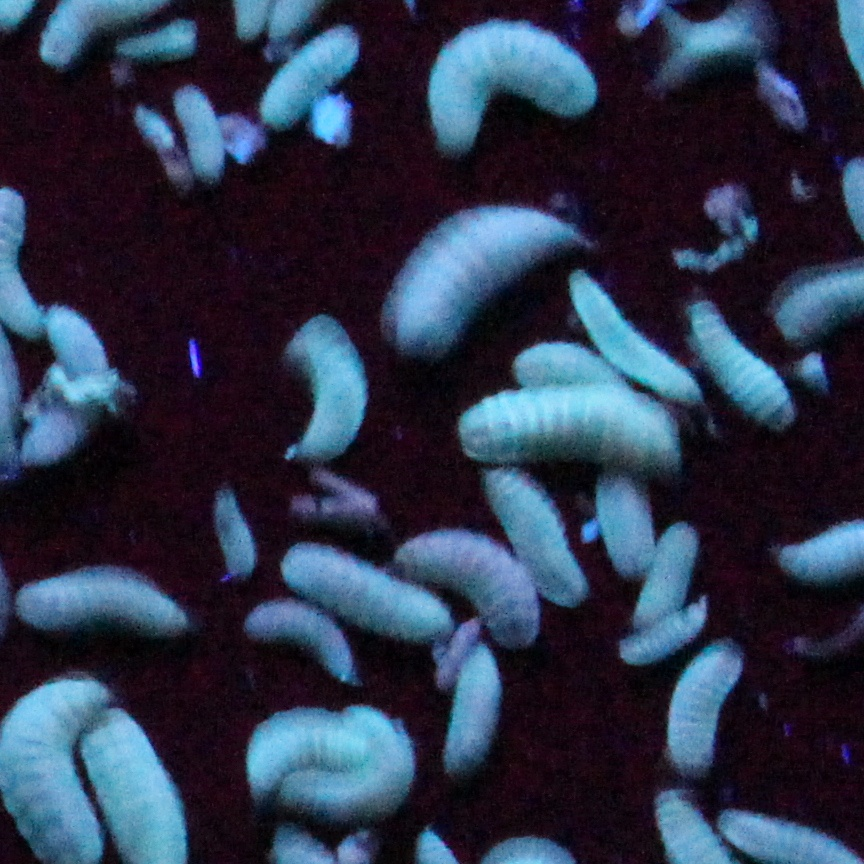larve: (388, 191, 586, 352), (412, 8, 609, 160), (384, 513, 552, 649), (557, 266, 710, 410), (262, 537, 458, 647), (469, 461, 594, 626), (457, 386, 681, 472), (266, 301, 371, 481), (18, 301, 124, 471), (684, 301, 804, 434), (655, 629, 755, 783), (242, 704, 403, 798), (232, 596, 368, 699), (253, 22, 375, 134), (442, 640, 509, 776), (634, 517, 704, 642), (171, 81, 239, 188)
